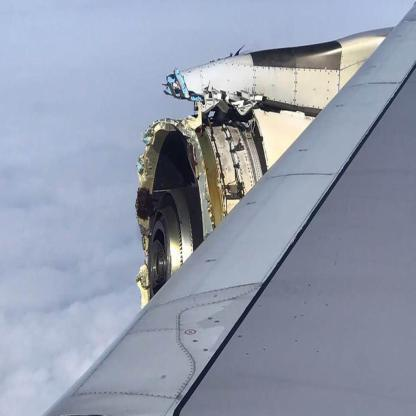CIV_Plane: (24, 0, 415, 414)
